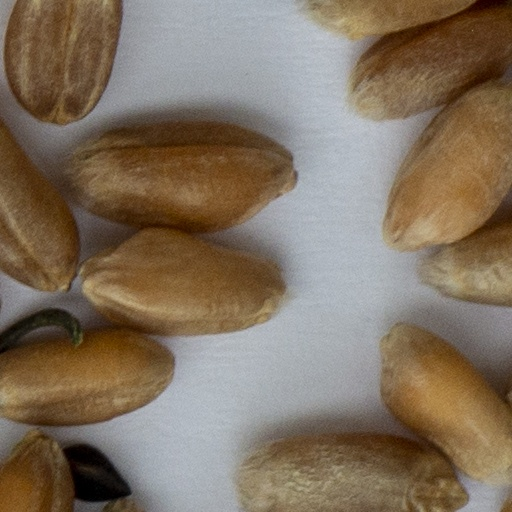Fallopia-Convolvulus-poly: (65, 447, 128, 501)
